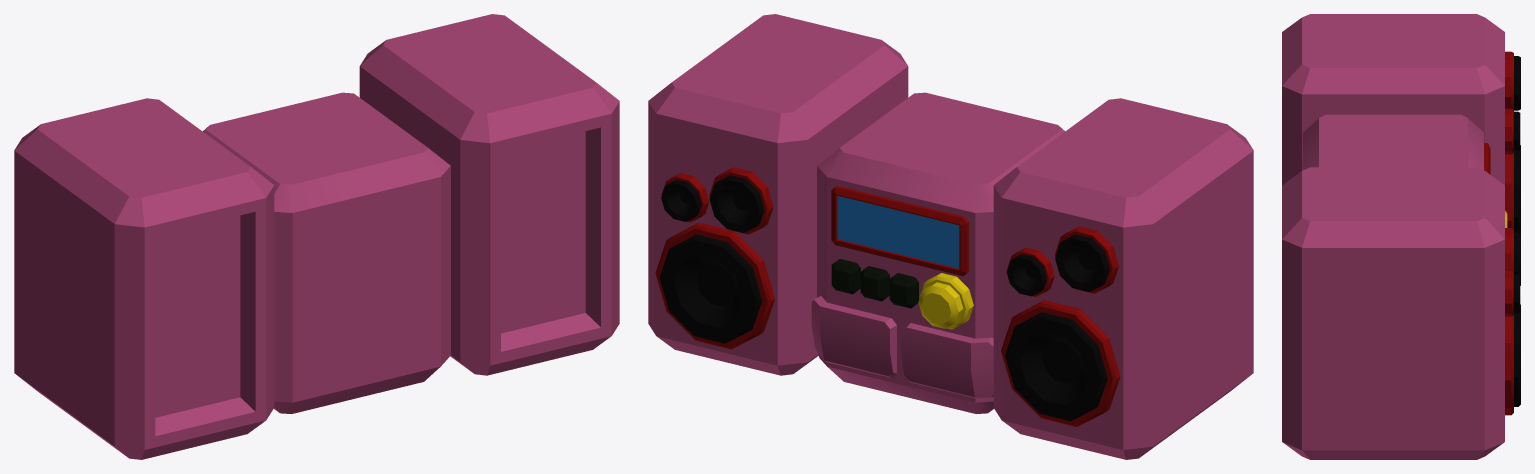
The model's file is Music center.FBX.
The picture shows the model from 3 angles, left to right: view 1: azimuth 30°, elevation 25°; view 2: azimuth 150°, elevation 25°; view 3: azimuth 270°, elevation 25°; orthographic projection. The views are drawn at different scales.
Parts seen in each view (by area): view 1: Music center; view 2: Music center; view 3: Music center.
Boxes of the visible parts, x1,y1,x2,y2 form: Music center: (14,14,619,459); Music center: (648,14,1253,459); Music center: (1282,14,1520,459).
Bounding box in the file's own units: 1135 × 511 × 563.
